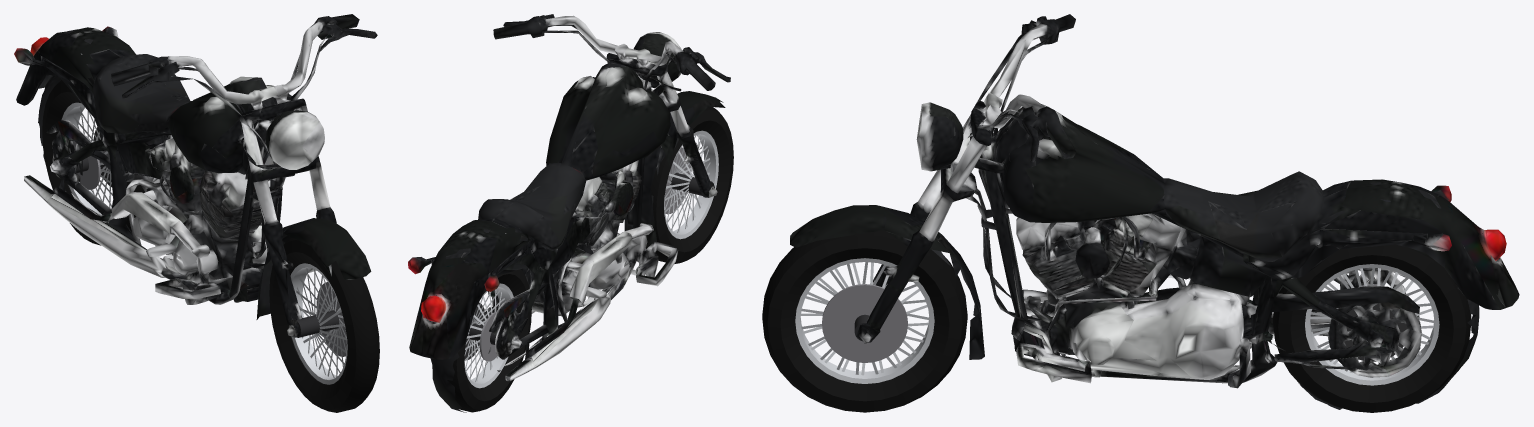
The model's file is cruiser.glb.
The picture shows the model from 3 angles, left to right: view 1: azimuth 30°, elevation 25°; view 2: azimuth 150°, elevation 25°; view 3: azimuth 270°, elevation 25°; orthographic projection. The views are drawn at different scales.
Parts seen in each view (by area): view 1: body, steer, wheel_f, wheel_r; view 2: body, steer, wheel_f, wheel_r; view 3: body, wheel_f, steer, wheel_r.
Boxes of the visible parts, x1,y1,x2,y2 form: body: (14, 26, 316, 319); steer: (111, 14, 377, 337); wheel_f: (269, 237, 379, 412); wheel_r: (42, 80, 145, 245); body: (408, 35, 678, 412); steer: (493, 14, 730, 197); wheel_f: (646, 106, 733, 263); wheel_r: (447, 269, 531, 412); body: (940, 61, 1519, 409); wheel_f: (762, 230, 967, 412); steer: (790, 14, 1076, 343); wheel_r: (1273, 244, 1471, 412).
Bounding box in the file's own units: 1.04 × 1.21 × 2.4.
Materials: 2 (2 with a texture image).
